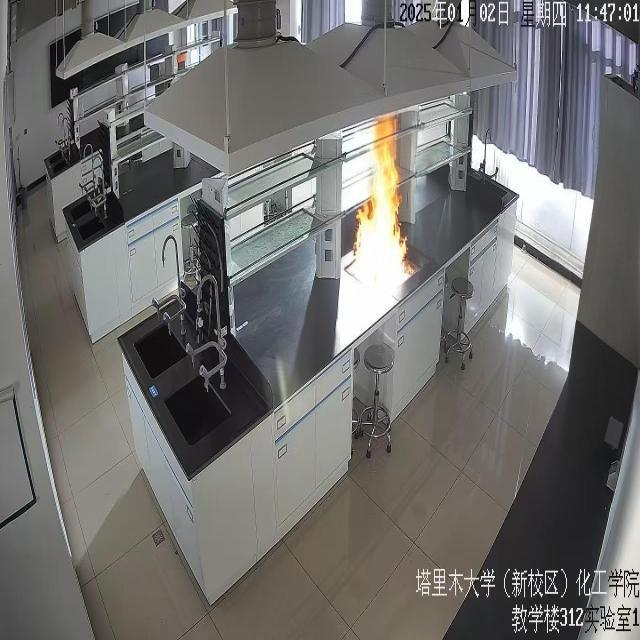smoke: (352, 118, 412, 284)
